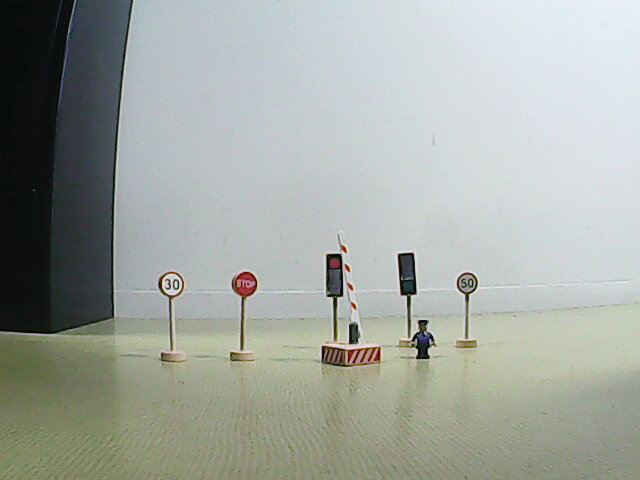barrier_up: (316, 226, 385, 370)
green_traffic_sign: (400, 250, 417, 297)
person: (406, 316, 438, 363)
red_traffic_sign: (324, 253, 343, 297)
sign_30: (157, 270, 186, 298)
sign_50: (455, 270, 479, 295)
stop_sign: (229, 268, 258, 298)
